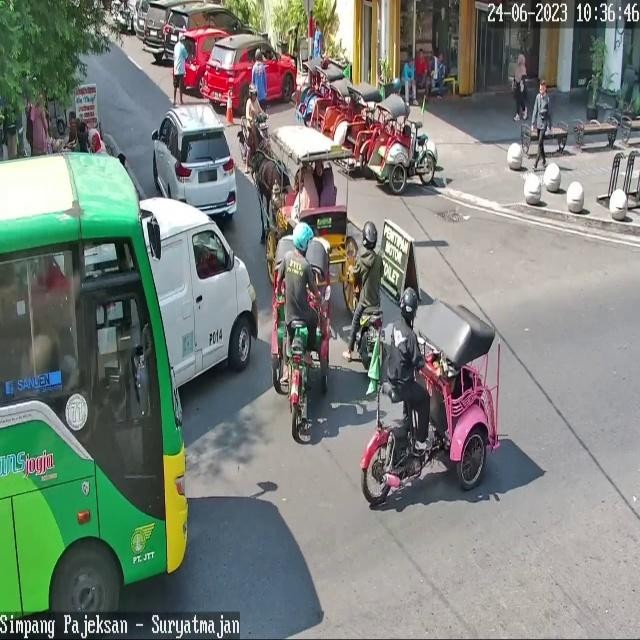bus: (350, 262, 383, 345), (239, 113, 269, 153)
car: (0, 152, 187, 640)
motorcycle: (139, 198, 258, 388), (154, 105, 237, 215), (202, 34, 297, 110), (163, 3, 257, 63), (185, 28, 231, 88), (144, 0, 172, 52)
